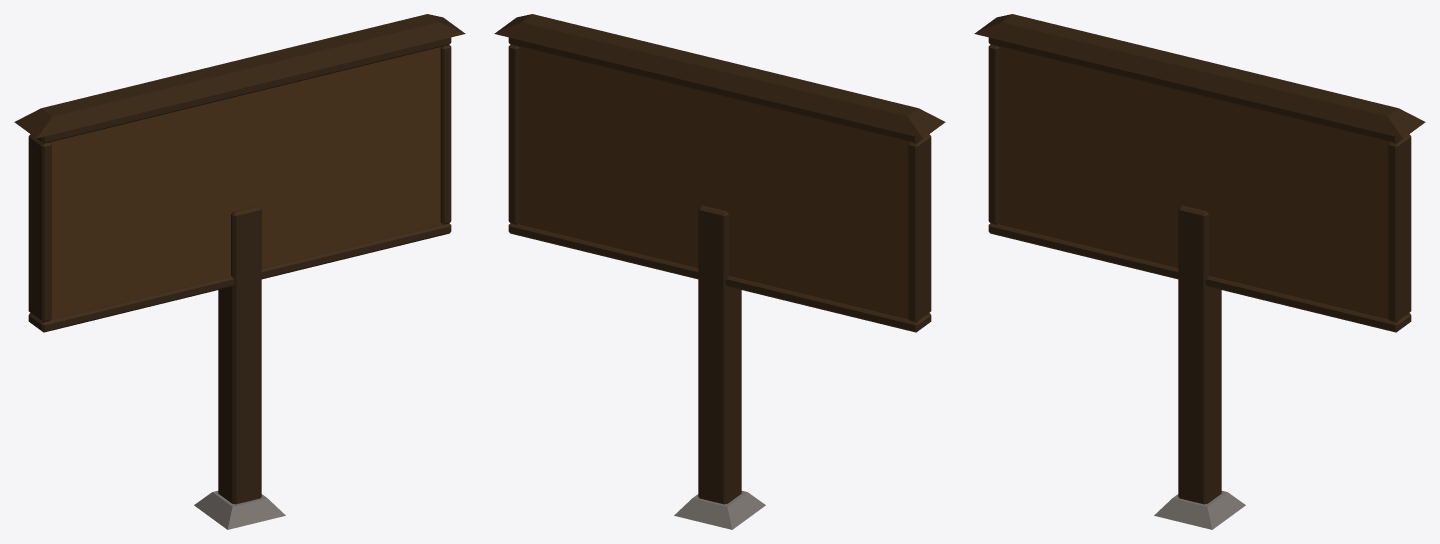
Rendered from PlotSign.glb.
3 views of the same model, side by side, from view 1: azimuth 30°, elevation 25°; view 2: azimuth 150°, elevation 25°; view 3: azimuth 330°, elevation 25° (orthographic).
Parts seen in each view (by area): view 1: Sign, Body; view 2: Sign, Body; view 3: Sign, Body.
Part boxes in pixels (x1,y1,x2,y2): Sign: (50, 47, 440, 319); Body: (14, 14, 465, 529); Sign: (519, 47, 909, 319); Body: (494, 14, 945, 529); Sign: (999, 47, 1389, 319); Body: (974, 14, 1425, 529).
Size of the model in its own units: 8.8 by 8.73 by 1.2.
